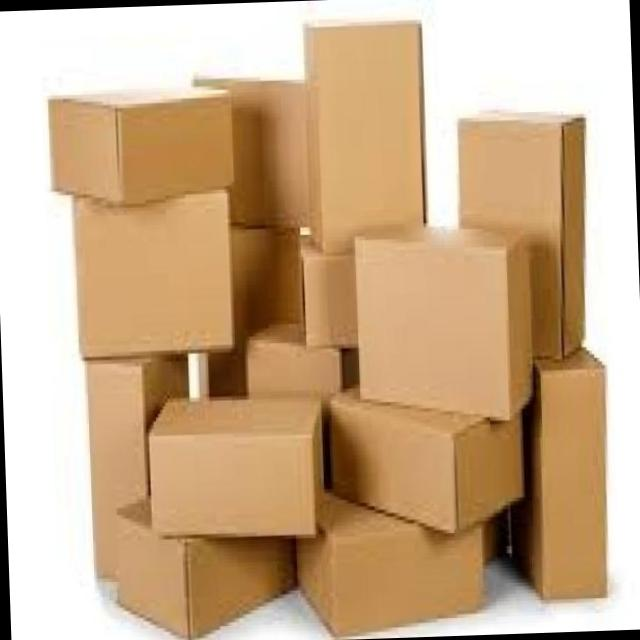cardboard paper: (358, 228, 532, 417), (458, 115, 584, 358), (307, 22, 424, 251), (298, 496, 489, 635), (331, 395, 521, 531), (78, 190, 234, 355), (112, 502, 295, 638), (151, 396, 323, 534), (51, 93, 234, 201), (533, 348, 608, 597)
